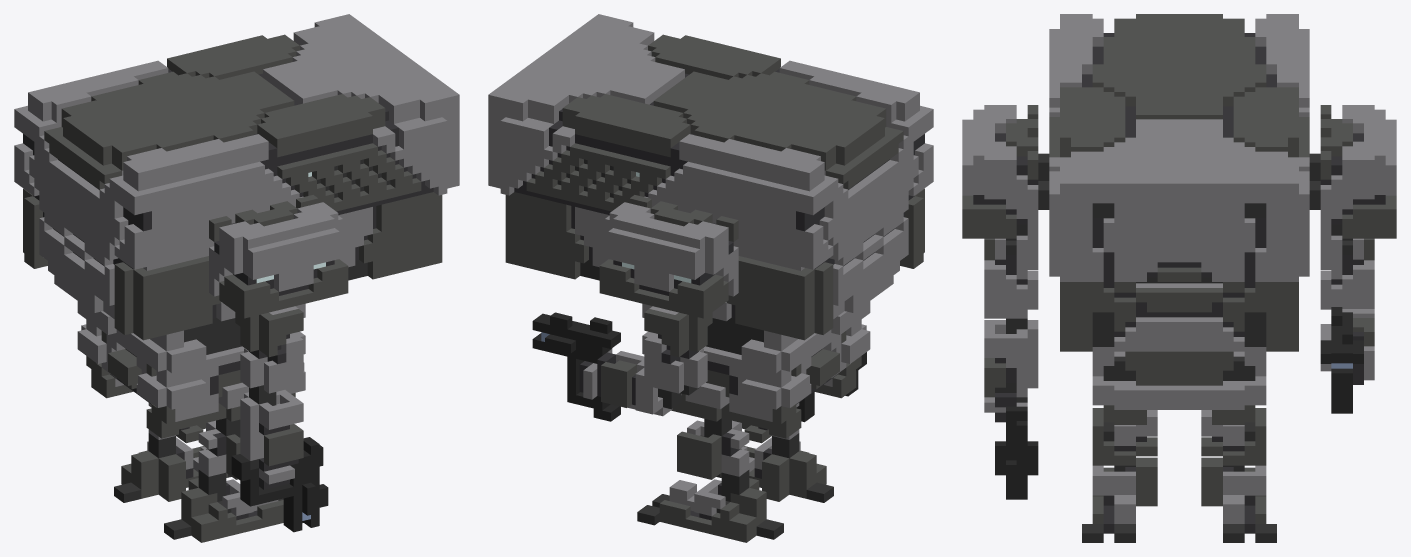
Rendered from Mecha01.glb.
3 renders of one model, left to right at view 1: azimuth 30°, elevation 25°; view 2: azimuth 150°, elevation 25°; view 3: azimuth 270°, elevation 25°, orthographic. The views are drawn at different scales.
Visible parts, largest first — view 1: Node; view 2: Node; view 3: Node.
Part boxes in pixels (bbox=[...]): Node: bbox=[14, 14, 459, 542]; Node: bbox=[488, 14, 933, 542]; Node: bbox=[962, 14, 1396, 542].
Bounding box in the file's own units: 3.8 × 4.4 × 4.
1 material, 1 textured.
